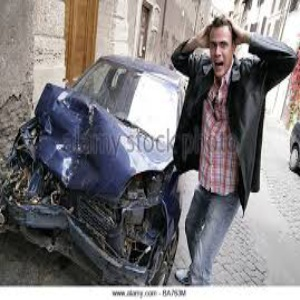bonnet: (32, 88, 115, 137)
bumper: (4, 215, 171, 285)
